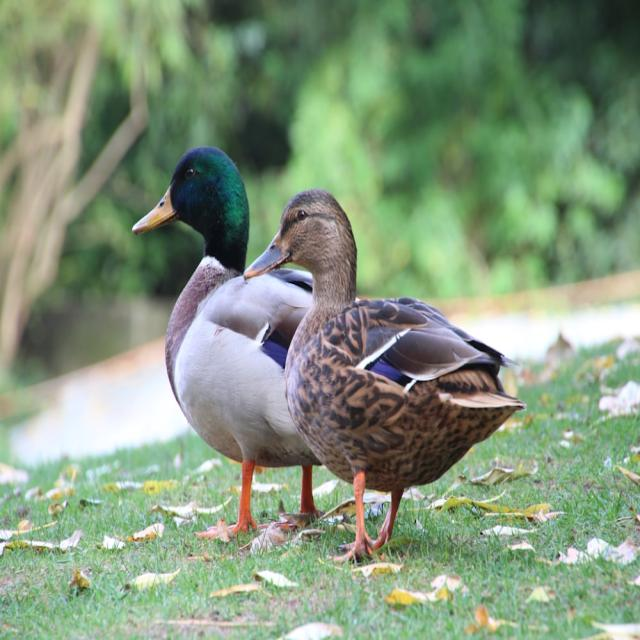ducks: (243, 125, 531, 568), (115, 130, 341, 538)
